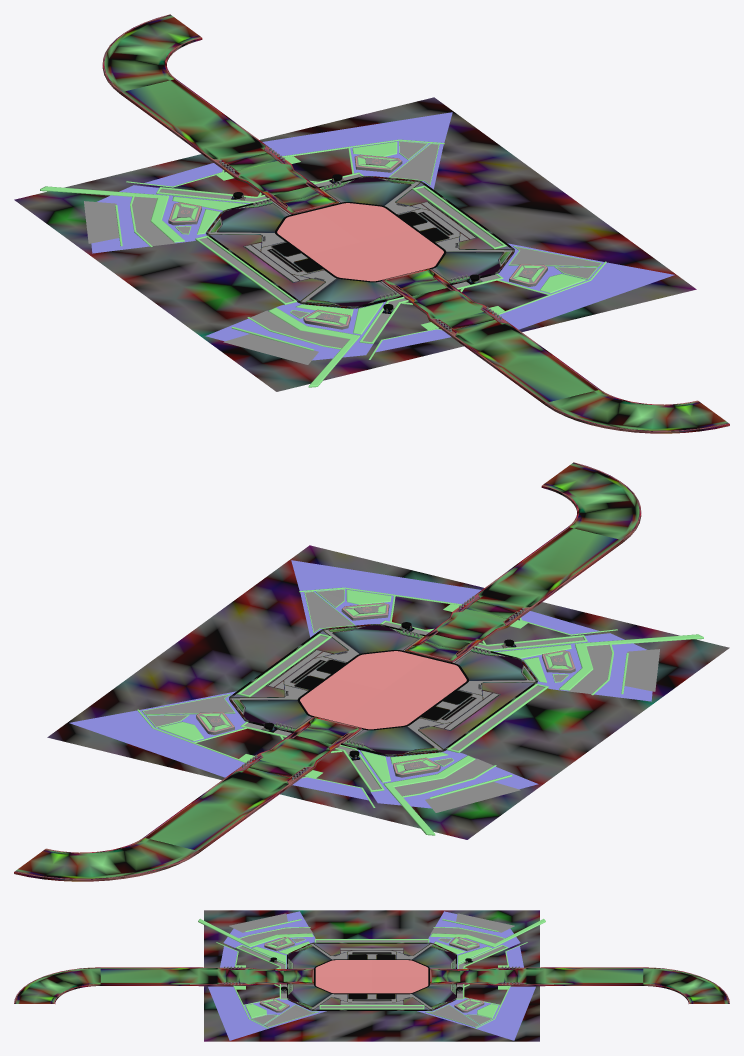
File: CS_Grounds_combined.gltf
The picture shows the model from 3 angles, top to bottom: view 1: azimuth 30°, elevation 25°; view 2: azimuth 150°, elevation 25°; view 3: azimuth 270°, elevation 25°; orthographic projection. The views are drawn at different scales.
Visible parts, largest first — view 1: CS_Grounds_Floor01, CS_Grounds_Trim02 (×2), CS_Grounds_Driveway01 (×2), CS_Grounds_Floor02 (×4), CS_Grounds_Grass01 (×4), CS_Grounds_Grass02 (×2), CS_Grounds_Trim01 (×4); view 2: CS_Grounds_Floor01, CS_Grounds_Trim02 (×2), CS_Grounds_Driveway01 (×2), CS_Grounds_Floor02 (×4), CS_Grounds_Grass01 (×4), CS_Grounds_Grass02 (×2), CS_Grounds_Trim01 (×4); view 3: CS_Grounds_Floor01, CS_Grounds_Trim02 (×2), CS_Grounds_Driveway01 (×2), CS_Grounds_Floor02 (×4), CS_Grounds_Grass01 (×4), CS_Grounds_Grass02 (×2), CS_Grounds_Trim01 (×4).
Boxes of the visible parts, box(x1,y1,x2,y2) form: CS_Grounds_Floor01: box(14, 97, 696, 391); CS_Grounds_Trim02 (×2): box(40, 112, 674, 387); CS_Grounds_Driveway01 (×2): box(102, 14, 729, 433); CS_Grounds_Floor02 (×4): box(208, 178, 512, 304); CS_Grounds_Grass01 (×4): box(210, 177, 510, 306); CS_Grounds_Grass02 (×2): box(84, 141, 600, 364); CS_Grounds_Trim01 (×4): box(206, 176, 514, 308); CS_Grounds_Floor01: box(47, 545, 729, 839); CS_Grounds_Trim02 (×2): box(69, 560, 703, 835); CS_Grounds_Driveway01 (×2): box(14, 462, 641, 881); CS_Grounds_Floor02 (×4): box(231, 626, 535, 752); CS_Grounds_Grass01 (×4): box(233, 625, 533, 754); CS_Grounds_Grass02 (×2): box(143, 589, 659, 812); CS_Grounds_Trim01 (×4): box(229, 624, 537, 756); CS_Grounds_Floor01: box(204, 910, 539, 1041); CS_Grounds_Trim02 (×2): box(198, 911, 545, 1040); CS_Grounds_Driveway01 (×2): box(14, 967, 729, 1003); CS_Grounds_Floor02 (×4): box(288, 944, 455, 1009); CS_Grounds_Grass01 (×4): box(288, 943, 455, 1009); CS_Grounds_Grass02 (×2): box(229, 913, 514, 1026); CS_Grounds_Trim01 (×4): box(287, 942, 456, 1010).
Bounding box in the file's own units: 327 × 5.4 × 755.
